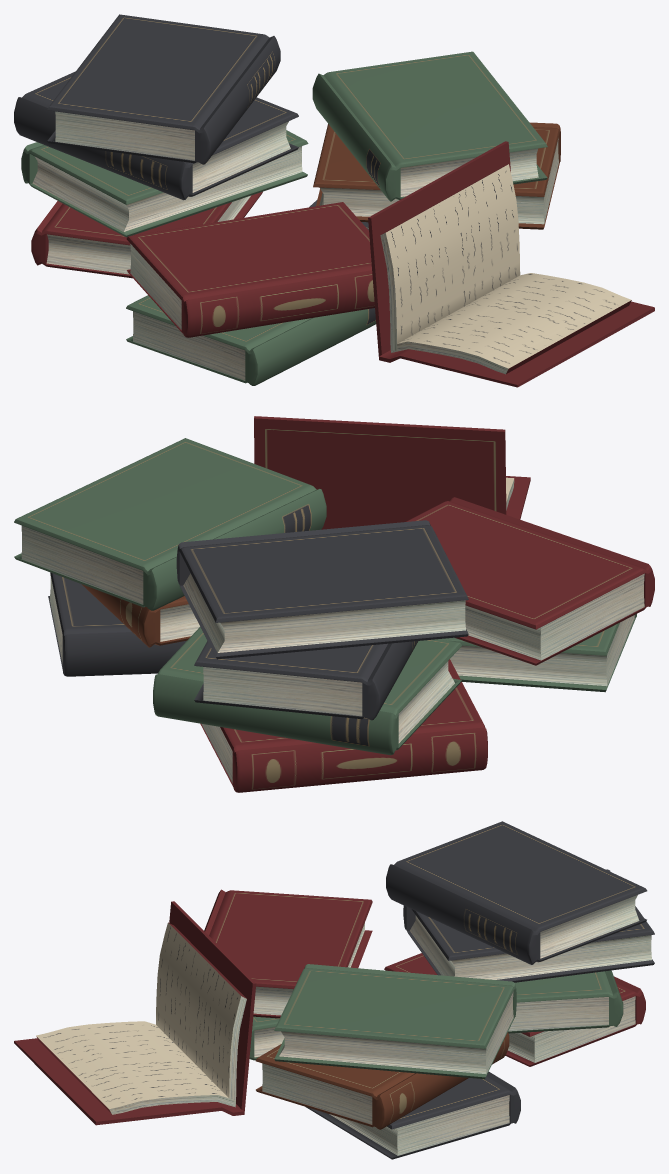
The model's file is AP_BookPileMessy3_CS.fbx.
The picture shows the model from 3 angles, top to bottom: view 1: azimuth 30°, elevation 25°; view 2: azimuth 150°, elevation 25°; view 3: azimuth 270°, elevation 25°; orthographic projection. The views are drawn at different scales.
Parts seen in each view (by area): view 1: polySurface7, bookred, bookblue2, bookgreen, bookgreen2, bookblue1, bookgreen1, bookbrown, bookred1; view 2: bookblue2, bookgreen, bookred, polySurface7, bookred1, bookgreen2, bookblue1, bookblue, bookgreen1, bookbrown; view 3: polySurface7, bookblue2, bookgreen, bookred, bookbrown, bookblue1, bookblue, bookgreen2, bookred1, bookgreen1.
Part boxes in pixels (x1,y1,x2,y2): polySurface7: (368, 141, 654, 387); bookred: (126, 202, 374, 337); bookblue2: (47, 14, 280, 164); bookgreen: (312, 51, 547, 201); bookgreen2: (21, 130, 308, 237); bookblue1: (14, 71, 298, 200); bookgreen1: (126, 295, 376, 385); bookbrown: (313, 122, 560, 229); bookred1: (31, 191, 262, 278); bookblue2: (176, 520, 468, 659); bookgreen: (14, 438, 326, 610); bookred: (406, 497, 654, 665); polySurface7: (254, 416, 530, 529); bookred1: (200, 659, 487, 792); bookgreen2: (153, 627, 461, 755); bookblue1: (194, 641, 418, 720); bookblue: (48, 572, 186, 676); bookgreen1: (438, 614, 636, 692); bookbrown: (81, 584, 199, 647); polySurface7: (14, 901, 256, 1125); bookblue2: (386, 821, 647, 964); bookgreen: (274, 964, 516, 1079); bookred: (204, 889, 372, 1018); bookbrown: (255, 1032, 509, 1129); bookblue1: (403, 869, 654, 982); bookblue: (306, 1072, 520, 1159); bookgreen2: (508, 970, 623, 1033); bookred1: (384, 953, 645, 1066); bookgreen1: (249, 1016, 284, 1060).
Bounding box in the file's own units: 8.9 × 2.83 × 11.28.
Materials: 5 (5 with a texture image).
